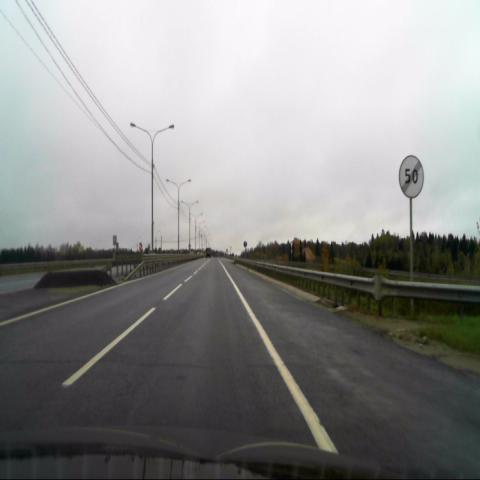3_25: (398, 155, 424, 199)
